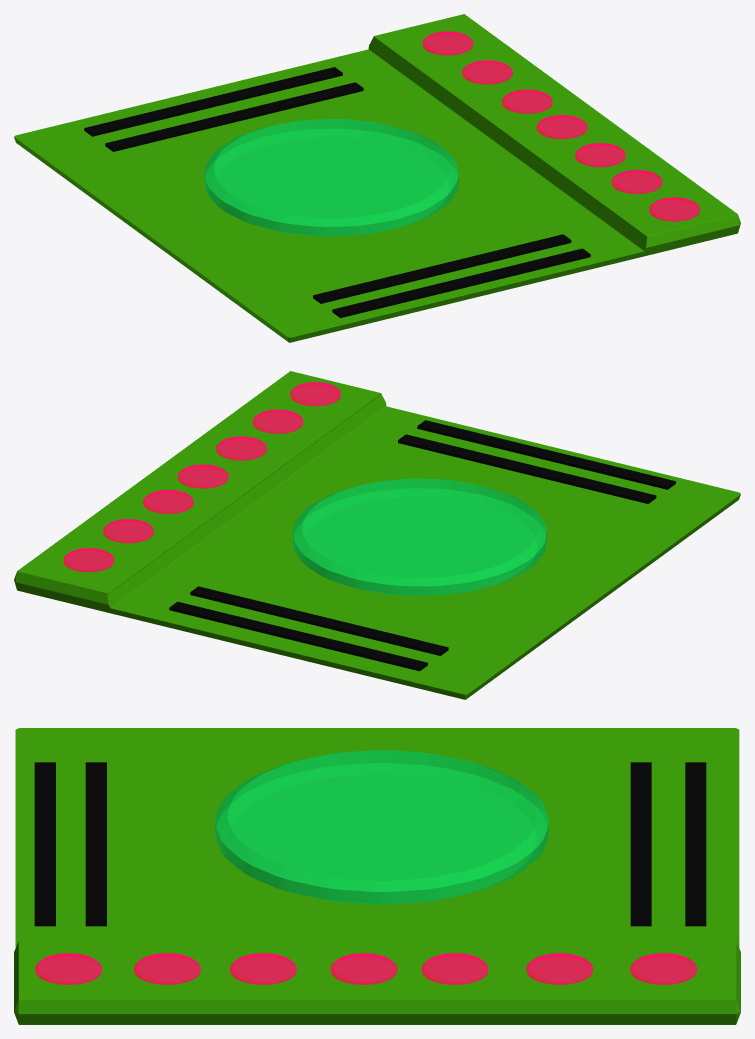
The model's file is EmergencyGrowLightFinal2.fbx.
3 renders of one model, top to bottom at view 1: azimuth 30°, elevation 25°; view 2: azimuth 150°, elevation 25°; view 3: azimuth 270°, elevation 25°, orthographic. The views are drawn at different scales.
Parts seen in each view (by area): view 1: pCube3, pCylinder8, pCube5, pCube6, pCube4, pCube7, pCylinder7, pCylinder4, pCylinder5, pCylinder6, pCylinder1, pCylinder2 (+1 smaller); view 2: pCube3, pCylinder8, pCube7, pCube4, pCube5, pCube6, pCylinder7, pCylinder1, pCylinder2, pCylinder3, pCylinder4, pCylinder6 (+1 smaller); view 3: pCube3, pCylinder8, pCube4, pCube5, pCube6, pCube7, pCylinder5, pCylinder1, pCylinder6, pCylinder7, pCylinder4, pCylinder2 (+1 smaller).
Boxes of the visible parts, box(x1,y1,x2,y2) form: pCube3: box(14, 14, 740, 342); pCylinder8: box(204, 119, 458, 236); pCube5: box(313, 234, 571, 303); pCube6: box(105, 82, 363, 151); pCube4: box(332, 248, 590, 317); pCube7: box(84, 67, 342, 136); pCylinder7: box(422, 31, 473, 55); pCylinder4: box(649, 197, 699, 221); pCylinder5: box(502, 89, 552, 113); pCylinder6: box(462, 60, 512, 84); pCylinder1: box(536, 115, 587, 139); pCylinder2: box(575, 143, 625, 167); pCube3: box(14, 371, 740, 699); pCylinder8: box(293, 478, 546, 596); pCube7: box(169, 601, 427, 671); pCube4: box(417, 420, 675, 489); pCube5: box(398, 434, 656, 503); pCube6: box(190, 586, 448, 655); pCylinder7: box(63, 548, 114, 572); pCylinder1: box(178, 464, 228, 488); pCylinder2: box(216, 436, 266, 460); pCylinder3: box(252, 409, 303, 433); pCylinder4: box(290, 382, 340, 406); pCylinder6: box(103, 519, 153, 543); pCube3: box(14, 728, 740, 1024); pCylinder8: box(215, 750, 548, 904); pCube4: box(34, 762, 55, 926); pCube5: box(85, 762, 106, 926); pCube6: box(630, 762, 651, 926); pCube7: box(685, 762, 706, 926); pCylinder5: box(421, 953, 488, 984); pCylinder1: box(330, 953, 397, 984); pCylinder6: box(526, 953, 592, 984); pCylinder7: box(630, 953, 696, 984); pCylinder4: box(35, 953, 101, 984); pCylinder2: box(230, 953, 296, 984).
Size of the model in its own units: 0.6147 by 0.0374 by 0.6502.
